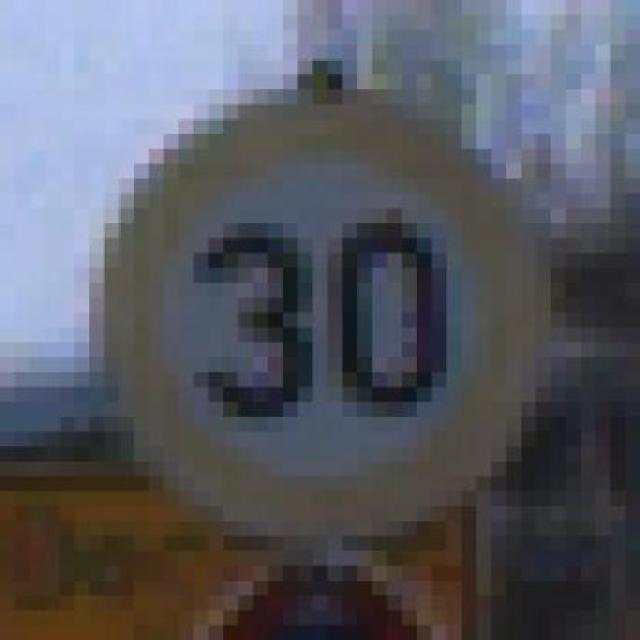Speed Limit 30 KMPh: (59, 75, 581, 550)
